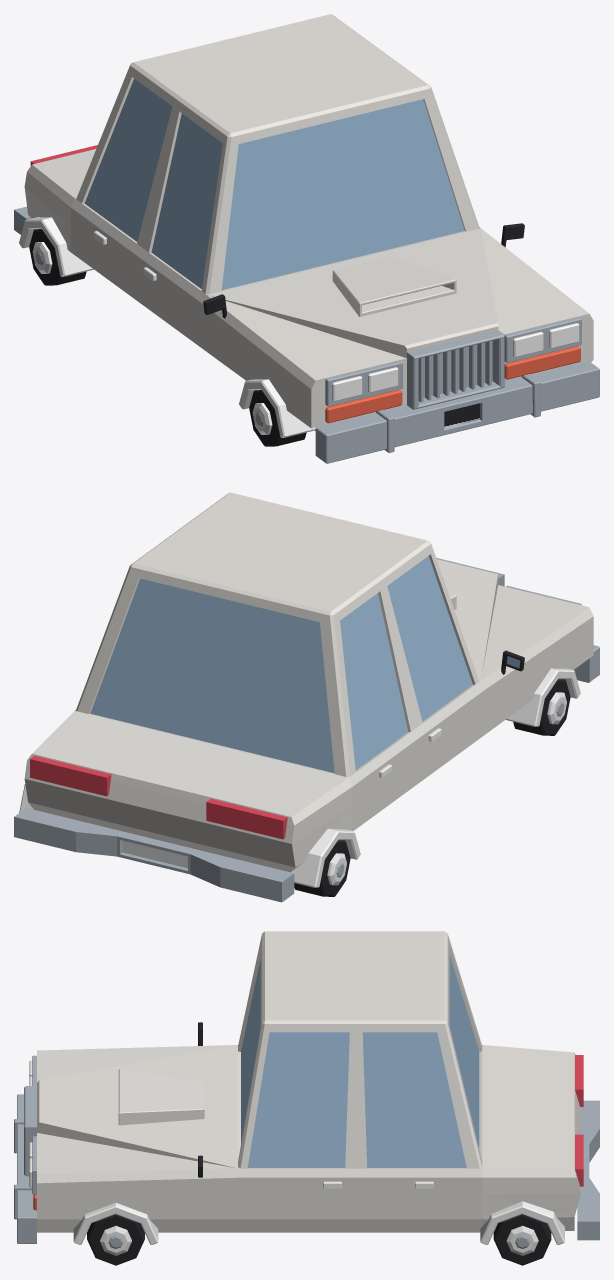
File: VanillaCar.fbx
3 renders of one model, top to bottom at view 1: azimuth 30°, elevation 25°; view 2: azimuth 150°, elevation 25°; view 3: azimuth 270°, elevation 25°, orthographic. The views are drawn at different scales.
Visible parts, largest first — view 1: polySurface6; view 2: polySurface6; view 3: polySurface6.
Boxes of the visible parts, bbox=[...] form: polySurface6: bbox=[14, 14, 599, 463]; polySurface6: bbox=[14, 492, 599, 902]; polySurface6: bbox=[14, 931, 599, 1265].
Bounding box in the file's own units: 0.6422 × 0.4666 × 1.1.
1 material, 1 textured.
